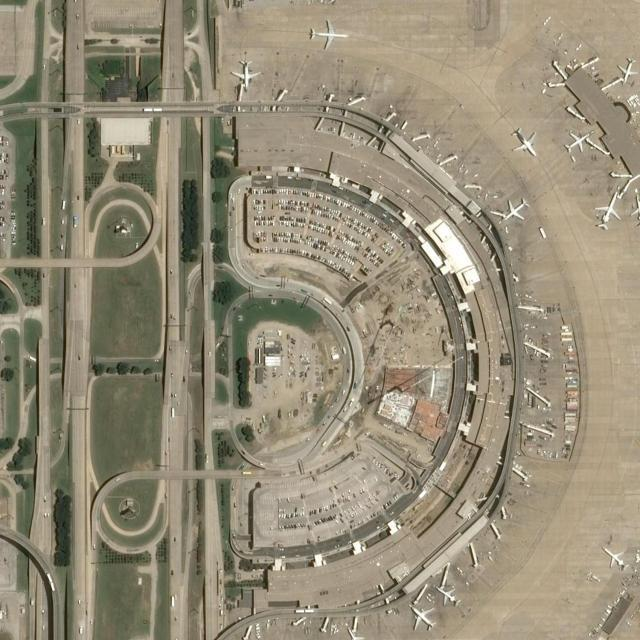Aircraft: (310, 20, 347, 50), (594, 195, 621, 231), (230, 60, 262, 89), (502, 197, 529, 225), (511, 130, 537, 159), (601, 546, 630, 572), (409, 606, 435, 633), (616, 58, 638, 85), (566, 132, 590, 154), (437, 587, 461, 608), (630, 196, 640, 226), (346, 626, 365, 640)
